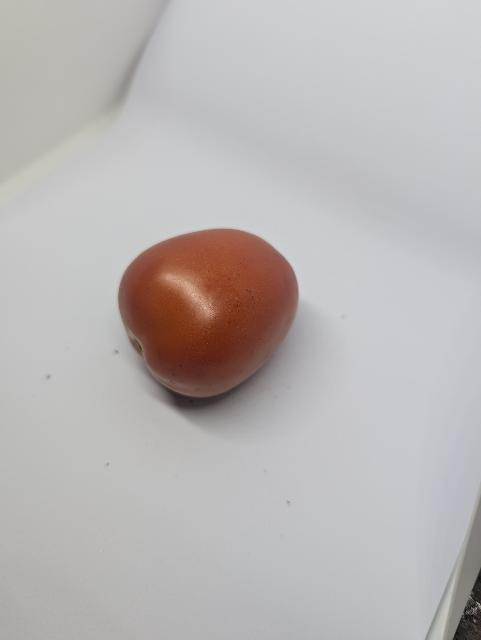red: (116, 225, 302, 400)
